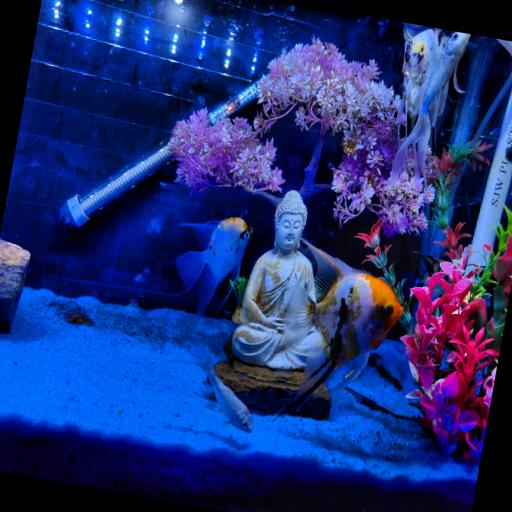Fish: (283, 239, 403, 405), (392, 32, 469, 178), (176, 218, 252, 316), (188, 344, 252, 433), (398, 29, 445, 138)
